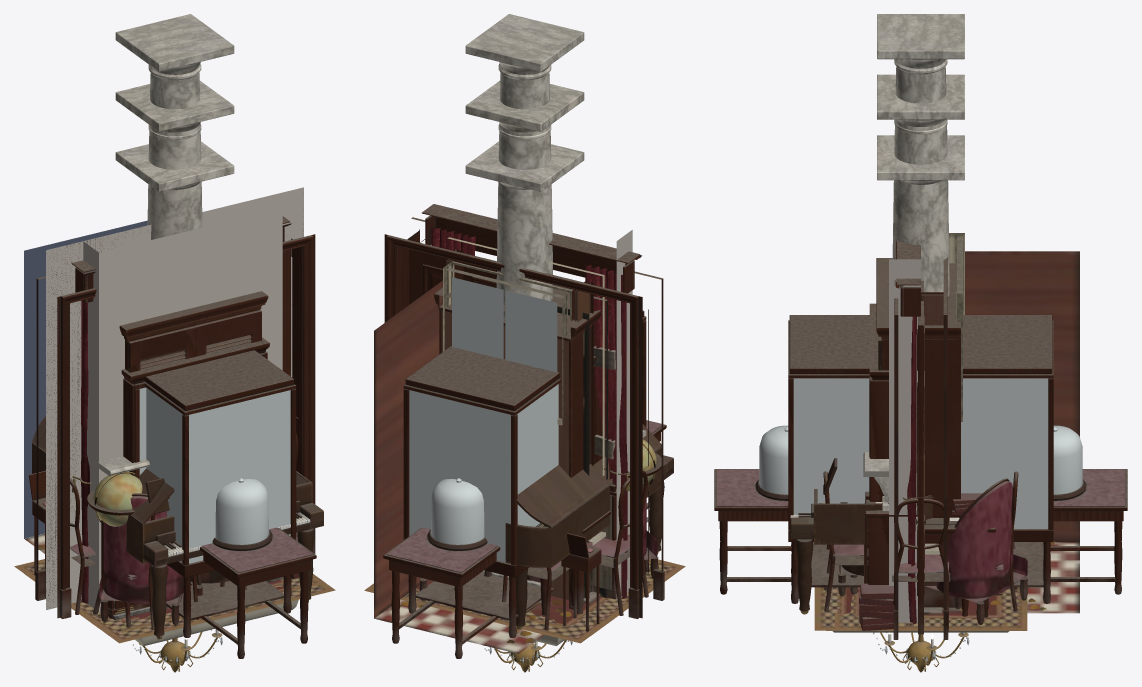
Rendered from tile.glb.
3 renders of one model, left to right at view 1: azimuth 30°, elevation 25°; view 2: azimuth 150°, elevation 25°; view 3: azimuth 270°, elevation 25°, orthographic.
Visible parts, largest first — view 1: Mod_fireplace_tile, Solid_vitrine_double, Door_frame_tile, Col_column_tile_H450, Solid_display_bench, Win_tall, Isl_grand_piano, Isl_parlour, Door_closed_tile, Exit_tile_p1, Isl_reading, Band_doll_cabinet (+13 smaller); view 2: Solid_vitrine_double, Exit_tile_p0, Col_column_tile_H450, Win_tall_curtain, Door_frame_tile, Isl_grand_piano, Solid_display_bench, Win_tall_glass, Ward_body_tile, Isl_parlour, Isl_dining, Col_column_tile_H400 (+9 smaller); view 3: Solid_vitrine_double, Exit_tile_p0, Col_column_tile_H450, Solid_display_bench, Isl_parlour, Ward_body_tile, Mod_fireplace_tile, Isl_reading, Isl_grand_piano, Win_tall_curtain, Door_frame_tile, Isl_dining (+7 smaller).
Part boxes in pixels (bbox=[...]): Mod_fireplace_tile: bbox=[46, 203, 303, 619]; Solid_vitrine_double: bbox=[140, 350, 296, 637]; Door_frame_tile: bbox=[35, 234, 315, 618]; Col_column_tile_H450: bbox=[115, 14, 234, 239]; Solid_display_bench: bbox=[200, 478, 316, 658]; Win_tall: bbox=[46, 188, 303, 609]; Isl_grand_piano: bbox=[32, 416, 323, 639]; Isl_parlour: bbox=[14, 470, 335, 643]; Door_closed_tile: bbox=[46, 187, 303, 609]; Exit_tile_p1: bbox=[24, 220, 147, 538]; Isl_reading: bbox=[25, 471, 325, 635]; Band_doll_cabinet: bbox=[121, 337, 269, 610]; Solid_vitrine_double: bbox=[403, 310, 646, 637]; Exit_tile_p0: bbox=[374, 280, 607, 653]; Col_column_tile_H450: bbox=[465, 14, 584, 316]; Win_tall_curtain: bbox=[422, 204, 642, 598]; Door_frame_tile: bbox=[384, 217, 664, 618]; Isl_grand_piano: bbox=[505, 424, 673, 629]; Solid_display_bench: bbox=[383, 420, 666, 658]; Win_tall_glass: bbox=[452, 277, 557, 372]; Ward_body_tile: bbox=[434, 284, 600, 609]; Isl_parlour: bbox=[364, 487, 685, 643]; Isl_dining: bbox=[453, 470, 648, 630]; Col_column_tile_H400: bbox=[465, 80, 584, 139]; Solid_vitrine_double: bbox=[788, 315, 1053, 603]; Exit_tile_p0: bbox=[924, 251, 1079, 614]; Col_column_tile_H450: bbox=[877, 14, 964, 296]; Solid_display_bench: bbox=[714, 425, 1127, 594]; Isl_parlour: bbox=[814, 478, 1028, 630]; Ward_body_tile: bbox=[876, 258, 960, 612]; Mod_fireplace_tile: bbox=[863, 259, 920, 622]; Isl_reading: bbox=[834, 493, 1007, 630]; Isl_grand_piano: bbox=[790, 458, 932, 614]; Win_tall_curtain: bbox=[894, 239, 943, 624]; Door_frame_tile: bbox=[893, 257, 948, 639]; Isl_dining: bbox=[823, 471, 1018, 631].
Size of the model in its own units: 2.25 by 5.29 by 3.09.
34 materials, 30 textured.
